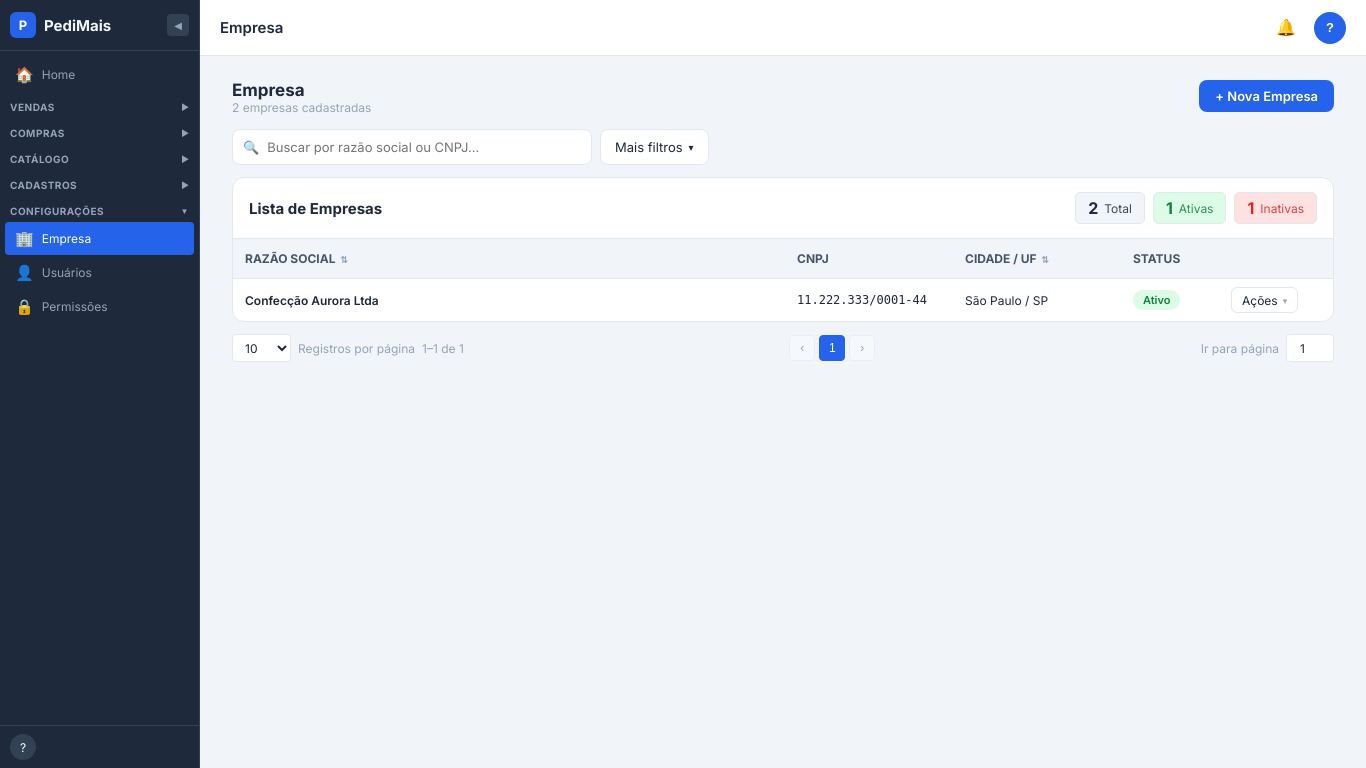
Test: CompaniesListView › shows the backend message when deletion is blocked because it is the last company
Click the element with test id "actions-company-1".
click(1265, 300)  # box [1231,287,1298,313]
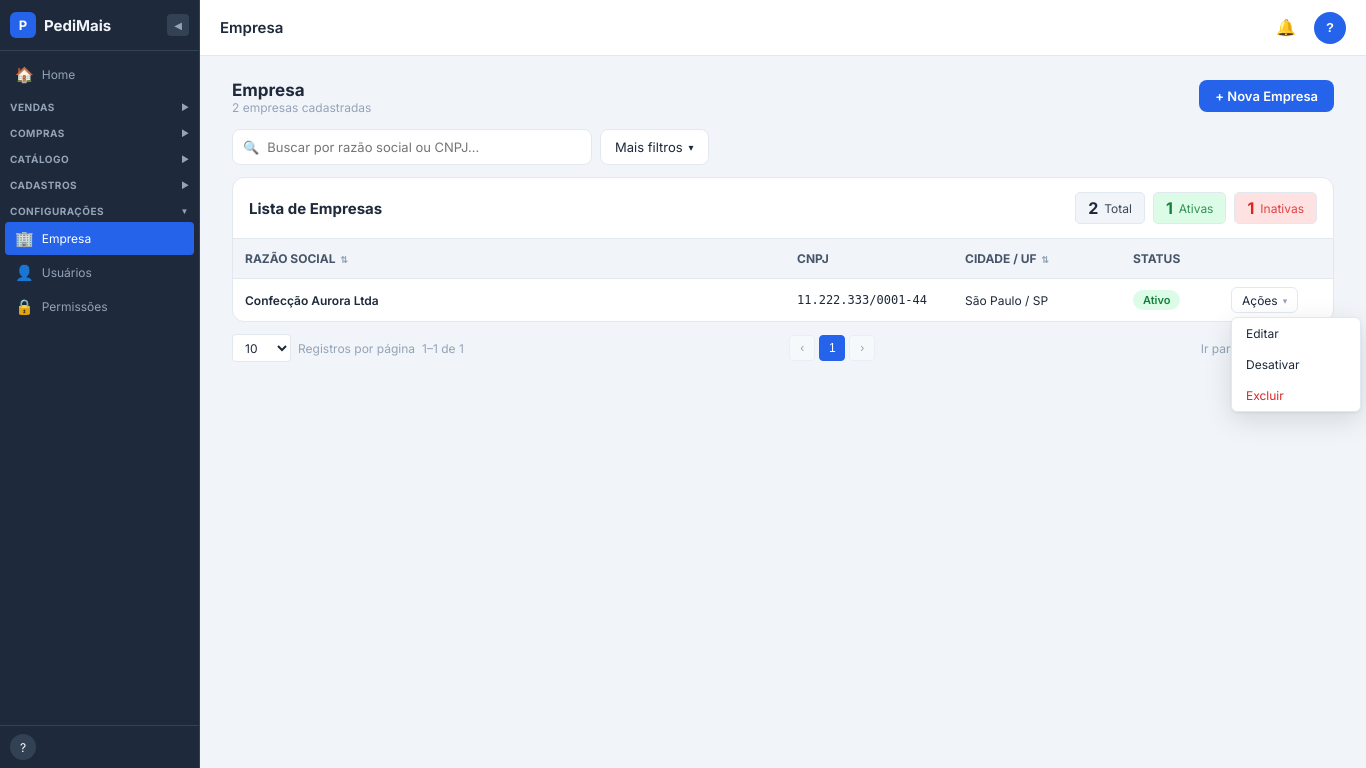
Click the text with test id "action-delete".
click(1265, 396)  # box [1246,388,1284,403]
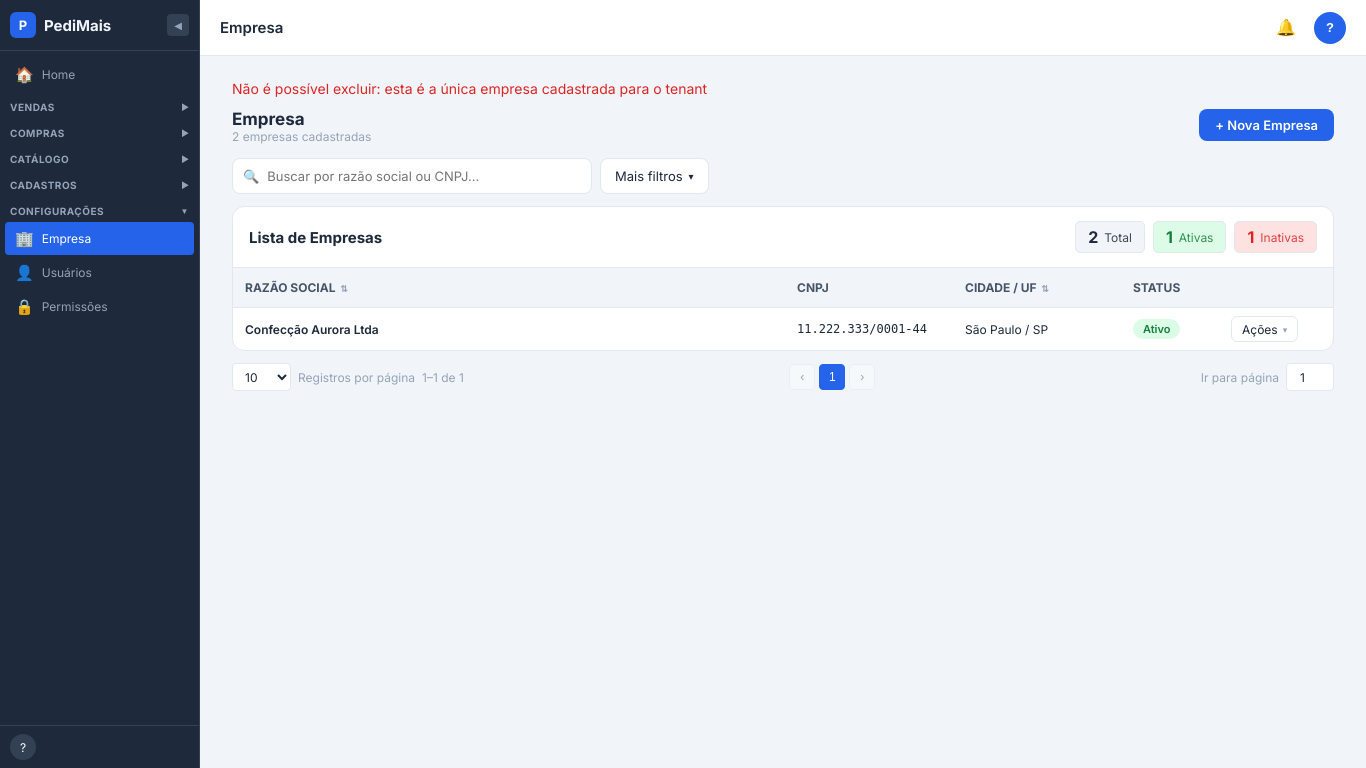
Result: the text "esta é a única empresa cadastrada para o tenant" is shown at [232,80,707,97]
